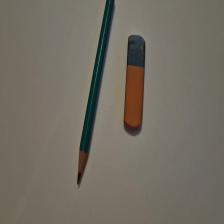eraser: (125, 36, 147, 132)
pencil: (77, 1, 115, 185)
